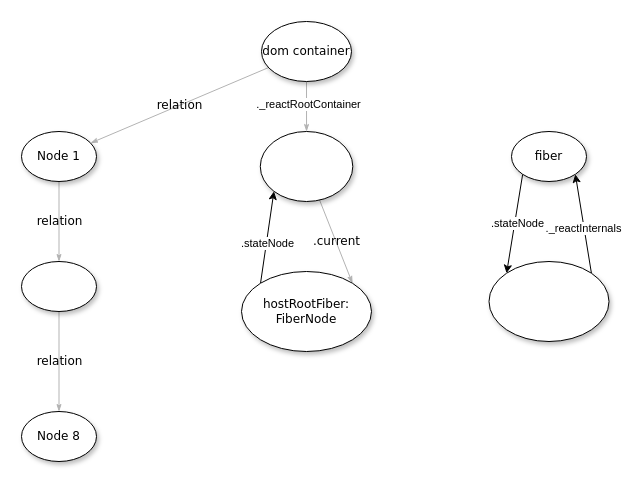
Image size: 639x486. Some labels were removed from this diagram. The shapes that lost their labels are listed below. From the top down, each one's centre as x and y in pixels, then its label:
At [307,167]: "fiberRootNode".
At [59,287]: "Node 4".
At [549,302]: "component instance".
